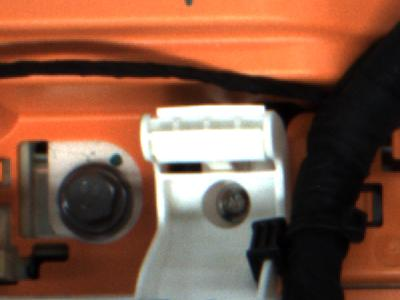nut_b: (52, 158, 143, 242)
